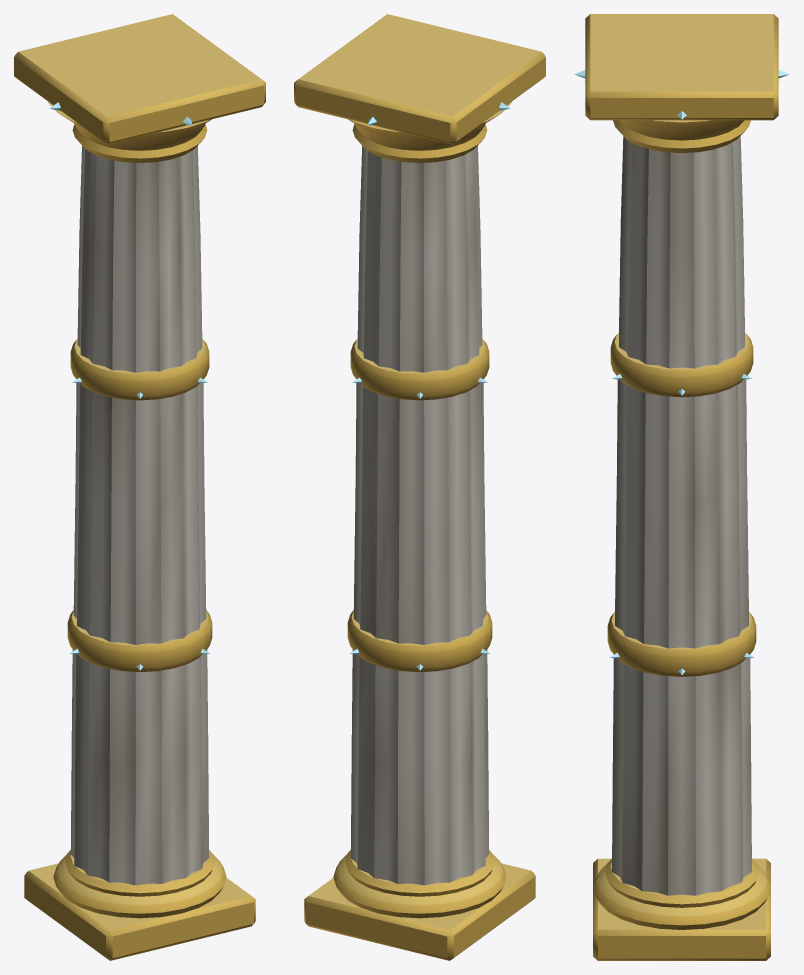
File: asgard_column.glb
The picture shows the model from 3 angles, left to right: view 1: azimuth 30°, elevation 25°; view 2: azimuth 150°, elevation 25°; view 3: azimuth 270°, elevation 25°; orthographic projection. The views are drawn at different scales.
Visible parts, largest first — view 1: asgard_column; view 2: asgard_column; view 3: asgard_column.
Part boxes in pixels (x1,y1,x2,y2): asgard_column: (14,14,265,960); asgard_column: (294,14,545,960); asgard_column: (585,14,778,960).
Bounding box in the file's own units: 2.18 × 9.72 × 2.18.
